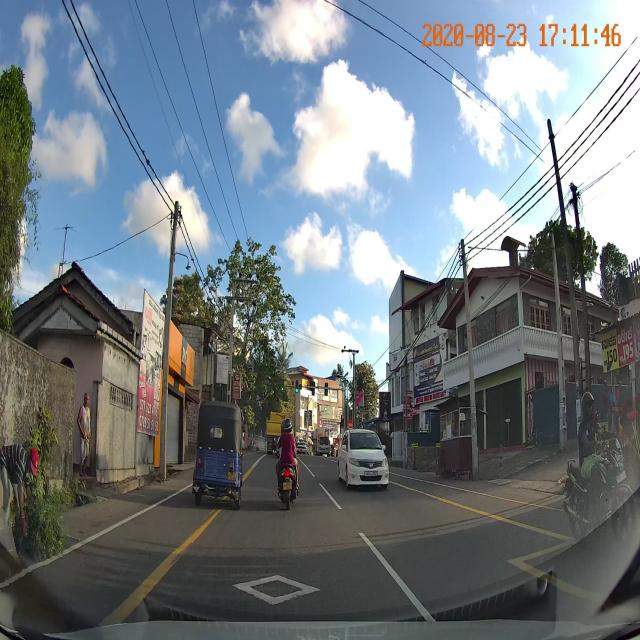Romb: (228, 572, 324, 609)
